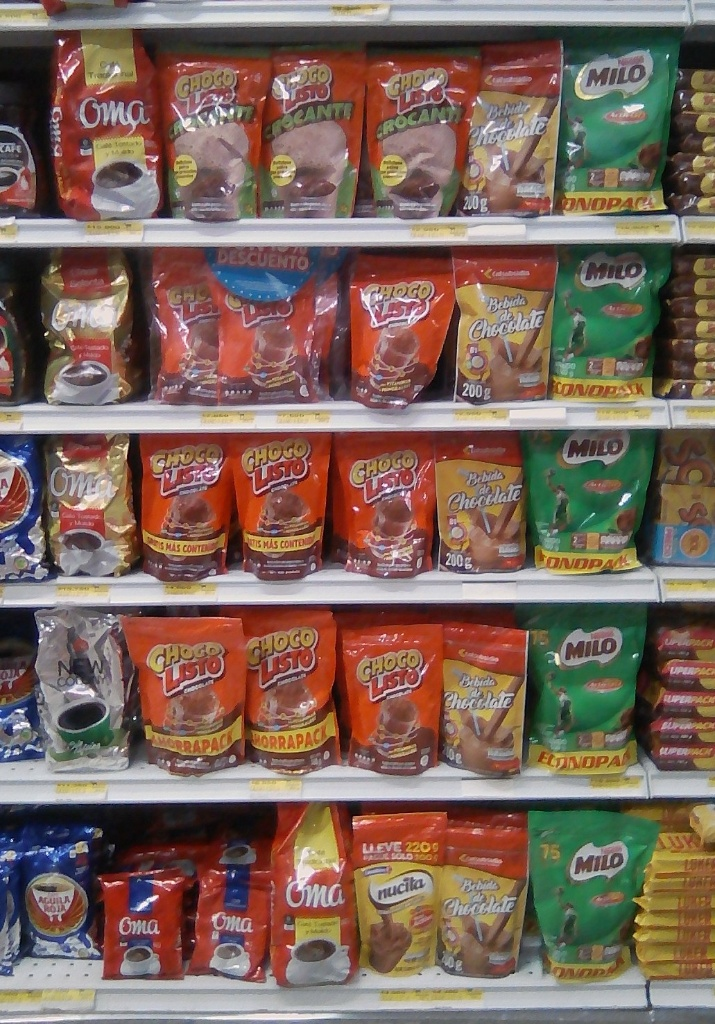COL0170102DYP25000: (373, 42, 468, 211)
COL0170103DYP20000: (333, 430, 436, 571)
COL0170103DYP36000: (232, 604, 335, 774)
COL0170203DYP50000: (523, 604, 652, 772)
